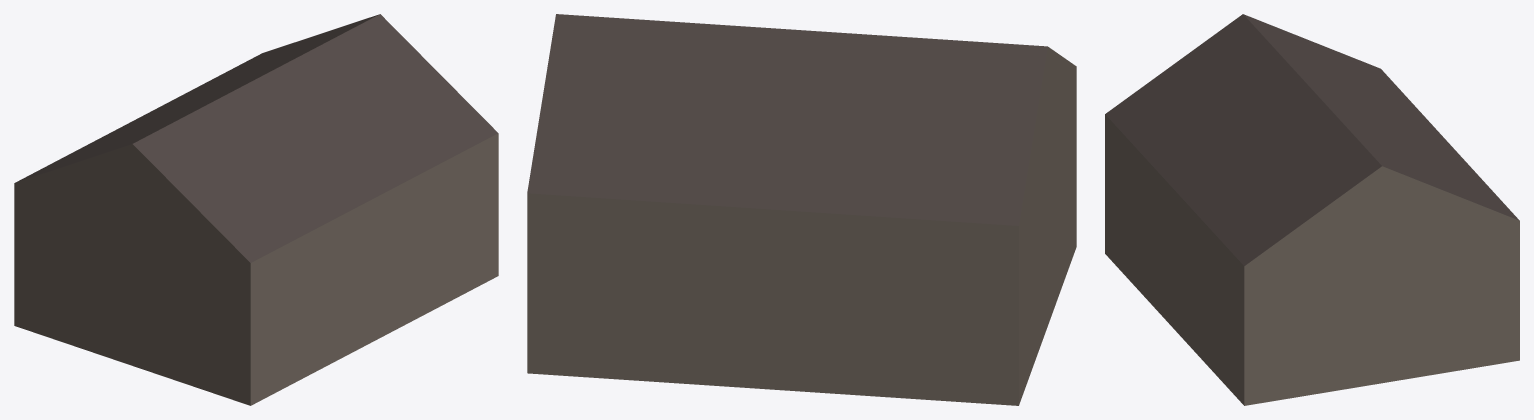
3 views of the same model, side by side, from view 1: azimuth 30°, elevation 25°; view 2: azimuth 150°, elevation 25°; view 3: azimuth 270°, elevation 25° (orthographic). The views are drawn at different scales.
Visible parts, largest first — view 1: HP-w859447867; view 2: HP-w859447867; view 3: HP-w859447867.
Boxes of the visible parts, left/top/right/bottom form: HP-w859447867: left=14, top=14, right=498, bottom=405; HP-w859447867: left=527, top=14, right=1076, bottom=405; HP-w859447867: left=1105, top=14, right=1519, bottom=405.
Size of the model in its own units: 18.21 by 9.33 by 16.15.
